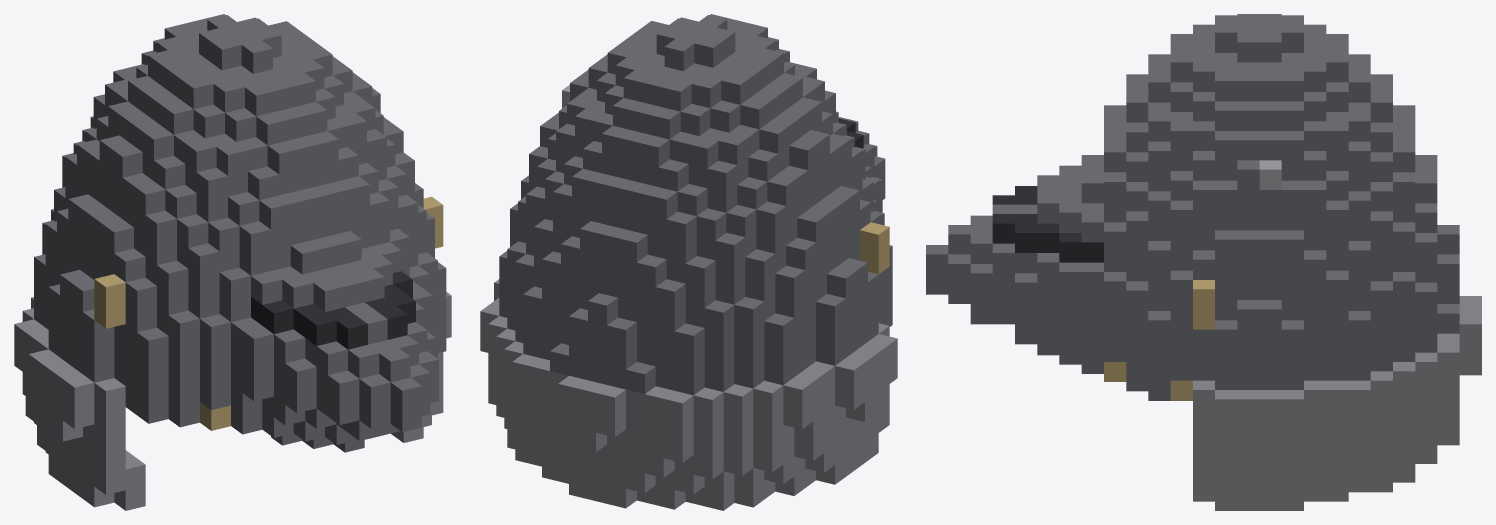
The model's file is plate_rare_helmet_lod1.glb.
3 views of the same model, side by side, from view 1: azimuth 30°, elevation 25°; view 2: azimuth 150°, elevation 25°; view 3: azimuth 270°, elevation 25° (orthographic). The views are drawn at different scales.
Parts seen in each view (by area): view 1: plate_rare_helmet_lod1; view 2: plate_rare_helmet_lod1; view 3: plate_rare_helmet_lod1.
Boxes of the visible parts, box(x1,y1,x2,y2) form: plate_rare_helmet_lod1: box(14, 14, 451, 510); plate_rare_helmet_lod1: box(480, 14, 897, 510); plate_rare_helmet_lod1: box(926, 14, 1481, 510).
Size of the model in its own units: 0.456 by 0.48 by 0.6.
